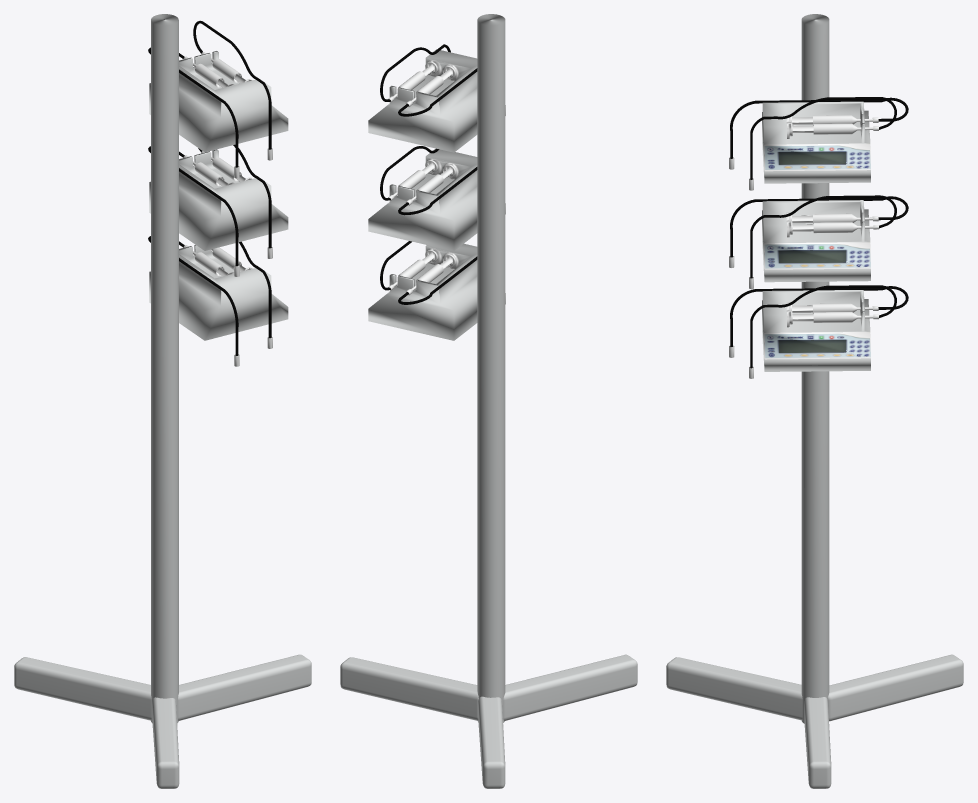
File: BSB05.fbx
The picture shows the model from 3 angles, left to right: view 1: azimuth 30°, elevation 25°; view 2: azimuth 150°, elevation 25°; view 3: azimuth 270°, elevation 25°; orthographic projection.
Parts seen in each view (by area): view 1: BSB05; view 2: BSB05; view 3: BSB05.
Part boxes in pixels (x1,y1,x2,y2): BSB05: (14, 14, 311, 788); BSB05: (340, 14, 637, 788); BSB05: (666, 14, 963, 788).
Bounding box in the file's own units: 64.1 × 189 × 72.76.
4 materials, 1 textured.
